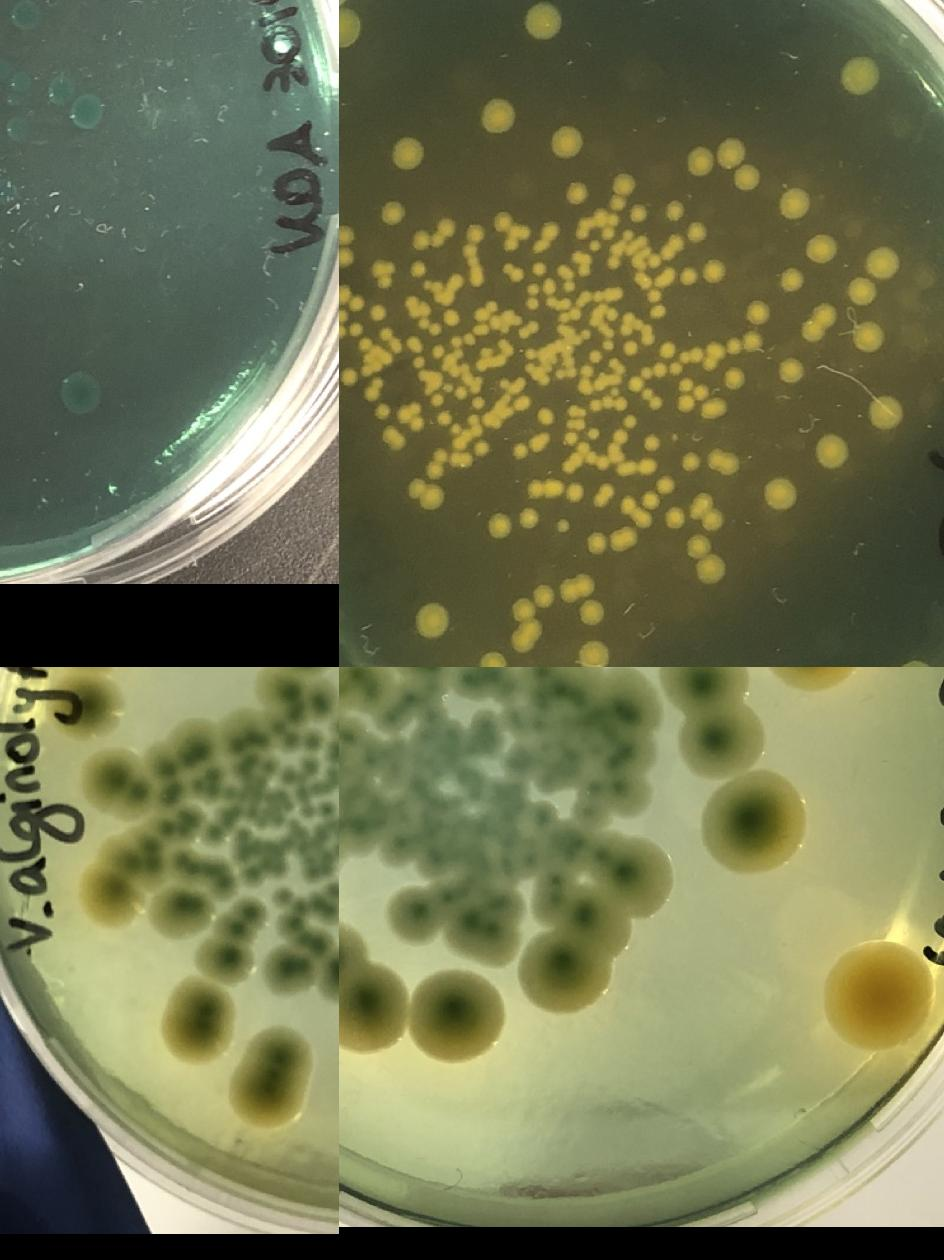pddamselae: (60, 366, 102, 414), (70, 92, 106, 126), (9, 0, 45, 32)
valgino: (657, 667, 809, 879), (339, 914, 506, 1064), (822, 940, 932, 1050), (520, 931, 608, 1011), (598, 836, 676, 920), (49, 674, 119, 736), (150, 882, 210, 942), (388, 884, 446, 944), (757, 667, 867, 693)
vharveyi: (430, 332, 481, 399), (580, 356, 628, 411), (629, 361, 681, 410), (716, 138, 758, 189), (688, 538, 727, 582), (607, 428, 639, 475), (562, 441, 610, 472), (575, 208, 620, 241), (512, 599, 540, 650), (634, 270, 675, 302), (426, 448, 472, 476), (678, 342, 722, 370), (421, 274, 462, 304), (620, 312, 655, 346), (802, 305, 835, 341), (360, 346, 394, 378), (693, 494, 722, 530), (609, 172, 636, 208), (558, 575, 594, 602), (527, 7, 558, 38), (854, 320, 884, 352), (778, 189, 810, 219), (764, 479, 796, 509), (564, 404, 588, 444), (550, 126, 582, 156), (706, 449, 742, 475), (816, 436, 847, 466), (805, 235, 836, 265), (621, 498, 652, 528), (867, 246, 896, 278), (418, 606, 448, 636), (483, 101, 512, 132), (870, 397, 899, 427), (410, 481, 442, 508), (846, 61, 874, 91), (686, 146, 714, 176), (394, 139, 422, 169), (462, 244, 481, 286), (576, 643, 607, 667), (728, 331, 763, 352), (339, 284, 364, 311), (580, 287, 622, 302), (487, 512, 511, 538), (746, 300, 770, 325), (780, 266, 804, 290), (779, 358, 803, 382), (579, 601, 603, 625), (378, 327, 402, 351), (554, 265, 577, 290), (570, 251, 594, 274), (565, 180, 589, 203), (430, 220, 453, 244), (381, 200, 405, 223), (406, 296, 431, 318), (396, 401, 423, 421), (372, 262, 392, 288), (339, 13, 356, 43), (594, 483, 614, 507), (476, 345, 495, 370), (600, 326, 618, 352), (662, 235, 682, 258), (416, 317, 442, 334), (474, 302, 498, 320), (852, 281, 872, 301), (687, 221, 707, 241), (678, 266, 698, 286), (666, 508, 686, 528), (665, 200, 685, 220), (642, 246, 662, 266), (608, 530, 628, 550), (587, 533, 607, 553), (518, 508, 538, 528), (466, 412, 483, 435), (558, 307, 582, 323), (480, 413, 504, 429), (725, 370, 745, 389), (704, 261, 723, 281), (535, 586, 554, 606), (704, 398, 722, 419), (366, 378, 384, 399), (544, 296, 572, 309), (628, 204, 648, 222), (480, 652, 504, 667), (503, 262, 522, 280), (530, 366, 550, 383), (608, 243, 622, 267), (626, 243, 641, 265), (518, 321, 540, 336), (416, 368, 436, 382), (339, 224, 353, 244), (339, 246, 353, 266), (649, 304, 664, 318), (567, 484, 582, 498), (694, 385, 708, 399), (684, 455, 698, 469), (662, 342, 676, 356), (658, 478, 672, 492), (643, 459, 657, 473), (624, 341, 638, 355), (622, 413, 636, 427), (601, 226, 615, 240), (590, 348, 604, 362), (588, 237, 602, 251), (558, 518, 572, 532), (546, 480, 560, 494), (544, 223, 558, 237), (540, 410, 554, 424), (530, 437, 544, 451), (529, 481, 543, 495), (496, 214, 510, 228), (444, 311, 458, 325), (414, 232, 428, 246), (408, 337, 422, 351), (383, 428, 397, 442), (679, 396, 693, 409), (586, 428, 600, 441), (469, 228, 483, 241), (410, 417, 424, 430), (348, 323, 362, 336), (344, 368, 357, 382), (489, 315, 504, 327), (678, 378, 692, 390), (646, 436, 658, 450), (644, 494, 658, 506), (578, 329, 592, 341), (565, 365, 579, 377), (542, 280, 556, 292), (533, 262, 547, 274), (526, 298, 540, 310), (512, 446, 526, 458), (504, 237, 518, 249), (498, 378, 512, 390), (476, 442, 490, 454), (472, 396, 486, 408), (452, 437, 466, 449), (450, 422, 464, 434), (412, 263, 426, 275), (412, 354, 426, 366), (376, 405, 390, 417), (372, 306, 384, 320), (358, 337, 372, 349), (440, 412, 453, 424), (431, 393, 444, 405), (636, 232, 648, 244), (622, 229, 634, 241), (606, 307, 618, 319), (582, 364, 594, 376), (535, 239, 547, 251), (528, 283, 540, 295), (518, 225, 530, 237), (518, 397, 530, 409), (478, 323, 490, 335), (339, 308, 347, 322), (339, 325, 344, 337)
